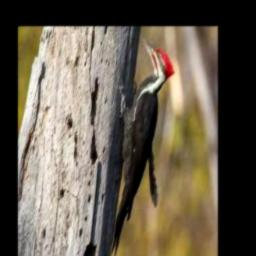Woodpecker: (110, 36, 175, 256)
